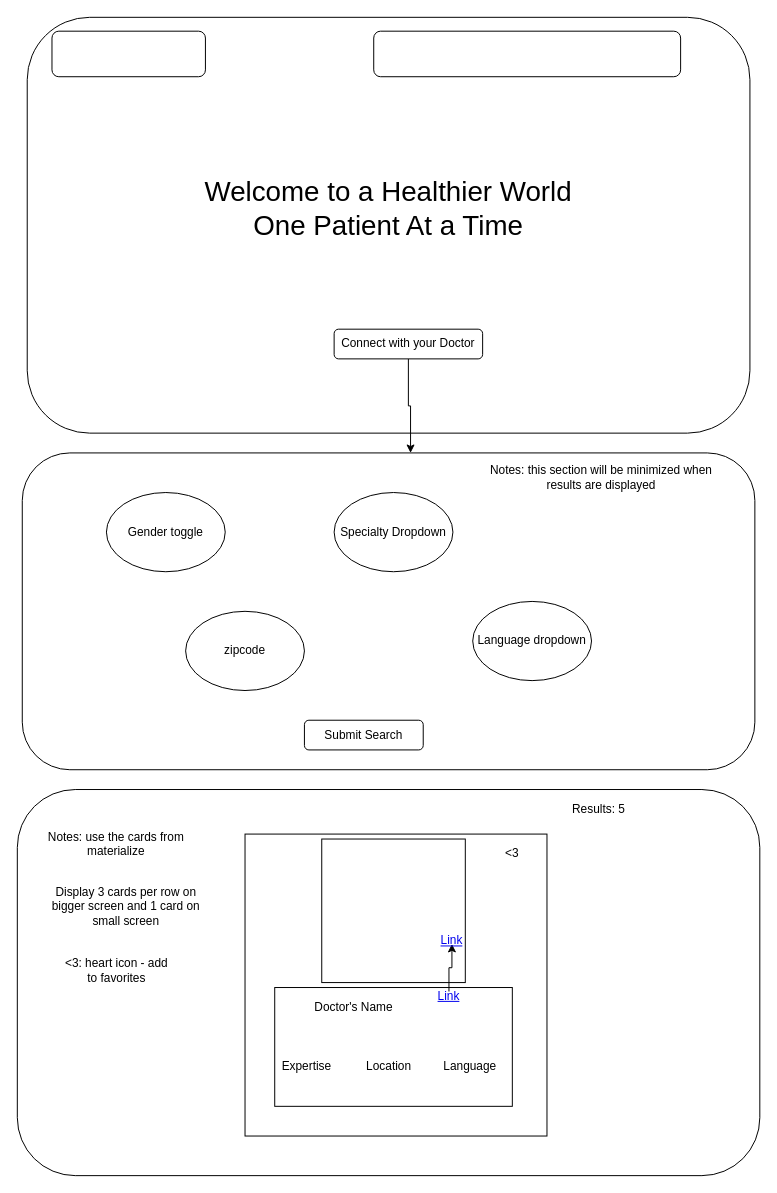
The diagram is 777 pixels wide and 1193 high, and some of its shapes have lost their labels. The shapes that lost their labels are listed below. From the top down, each one's box as (x1, y1, x2, y2) in pixels, then its label:
(51, 30, 205, 77): Translate Page
(373, 30, 681, 77): Home Search Favorites Contacts
(321, 838, 465, 983): picture
